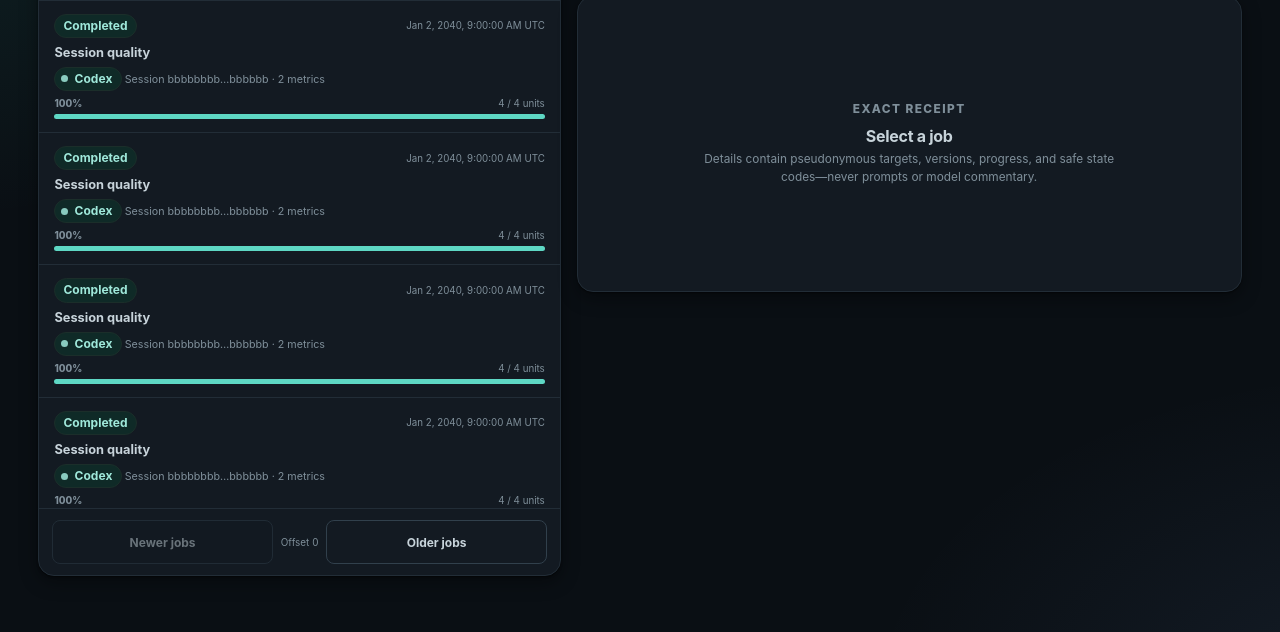
AnalysisJobCentre › explains pagination boundaries and enables movement when a full page exists
(page scrolled)
Expected: the button "Newer jobs" is disabled, [52,520,273,564]
Click the button "Older jobs".
click(437, 542)  # box [326,520,547,564]
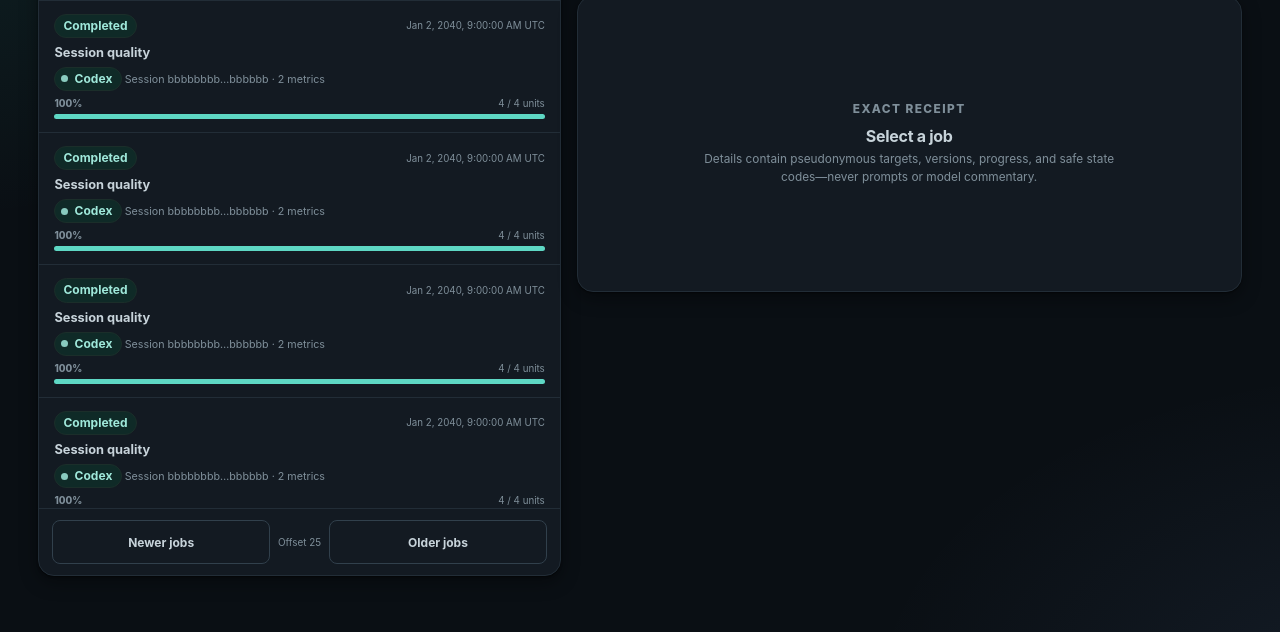
Now the button "Newer jobs" is enabled, box [52,520,270,564]
